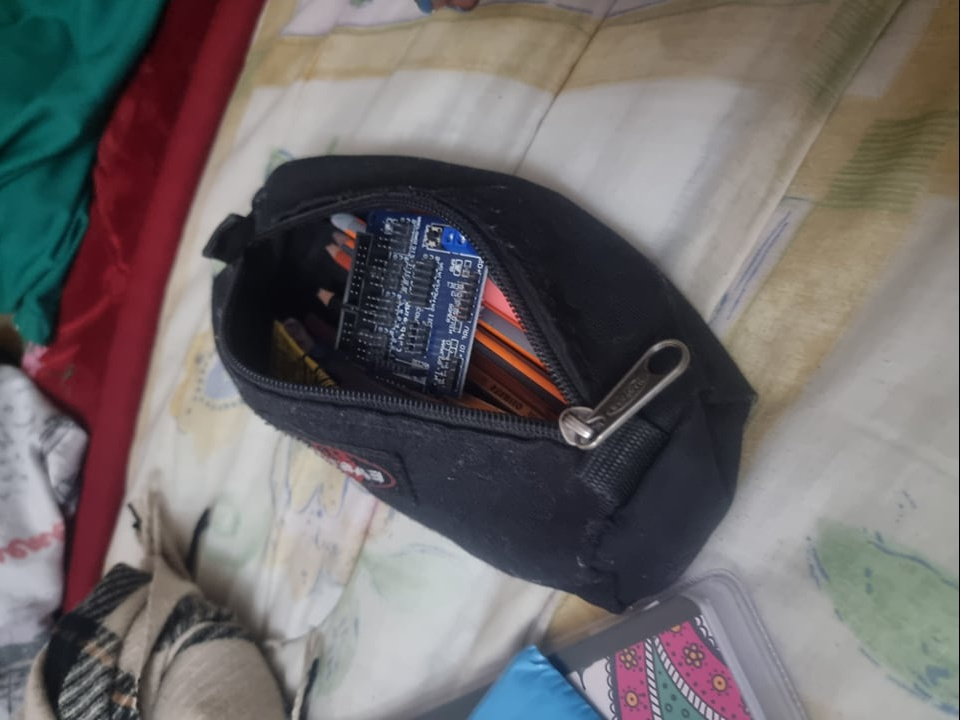5V EXPANSION: (352, 209, 485, 407)
